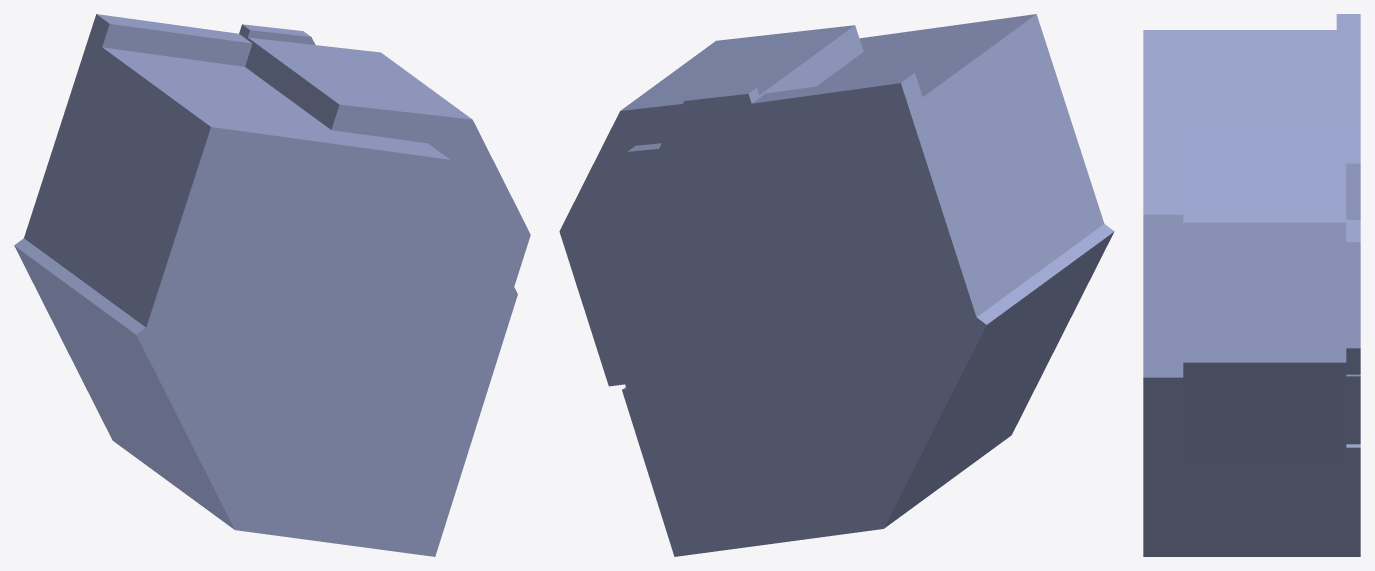
3 renders of one model, left to right at view 1: azimuth 30°, elevation 25°; view 2: azimuth 150°, elevation 25°; view 3: azimuth 270°, elevation 25°, orthographic. The views are drawn at different scales.
Visible parts, largest first — view 1: LT6; view 2: LT6; view 3: LT6.
Boxes of the visible parts, x1,y1,x2,y2 form: LT6: [14, 14, 530, 556]; LT6: [559, 14, 1114, 556]; LT6: [1143, 14, 1360, 556].
Bounding box in the file's own units: 26.89 × 31.21 × 13.67.
